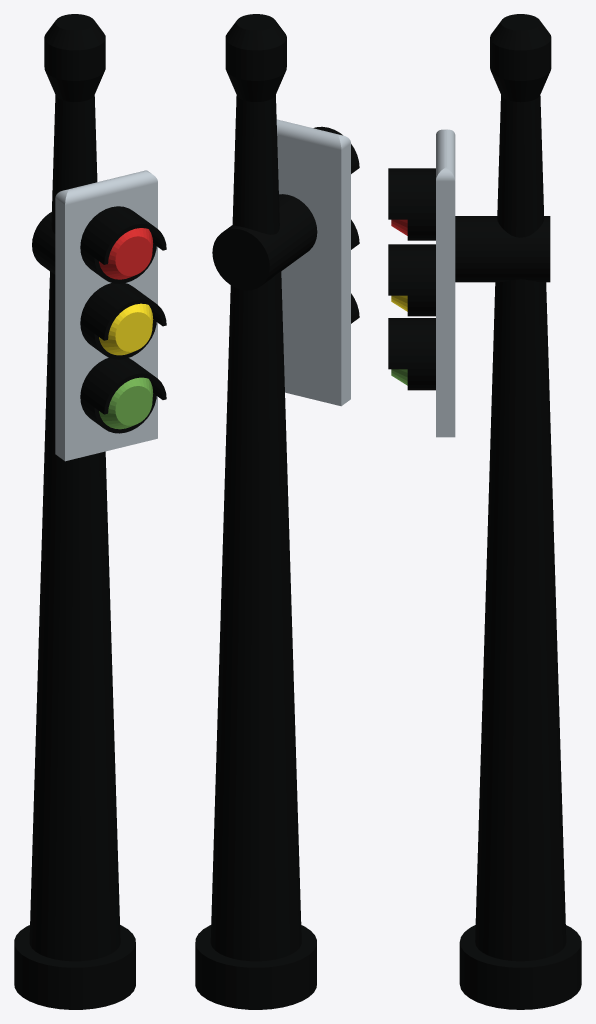
File: Stoplight.fbx
The picture shows the model from 3 angles, left to right: view 1: azimuth 30°, elevation 25°; view 2: azimuth 150°, elevation 25°; view 3: azimuth 270°, elevation 25°; orthographic projection.
Parts seen in each view (by area): view 1: Cylinder.001; view 2: Cylinder.001; view 3: Cylinder.001.
Part boxes in pixels (x1,y1,x2,y2): Cylinder.001: (14, 14, 166, 1009); Cylinder.001: (195, 14, 359, 1009); Cylinder.001: (388, 14, 581, 1009).
Size of the model in its own units: 433 by 3765 by 686.
